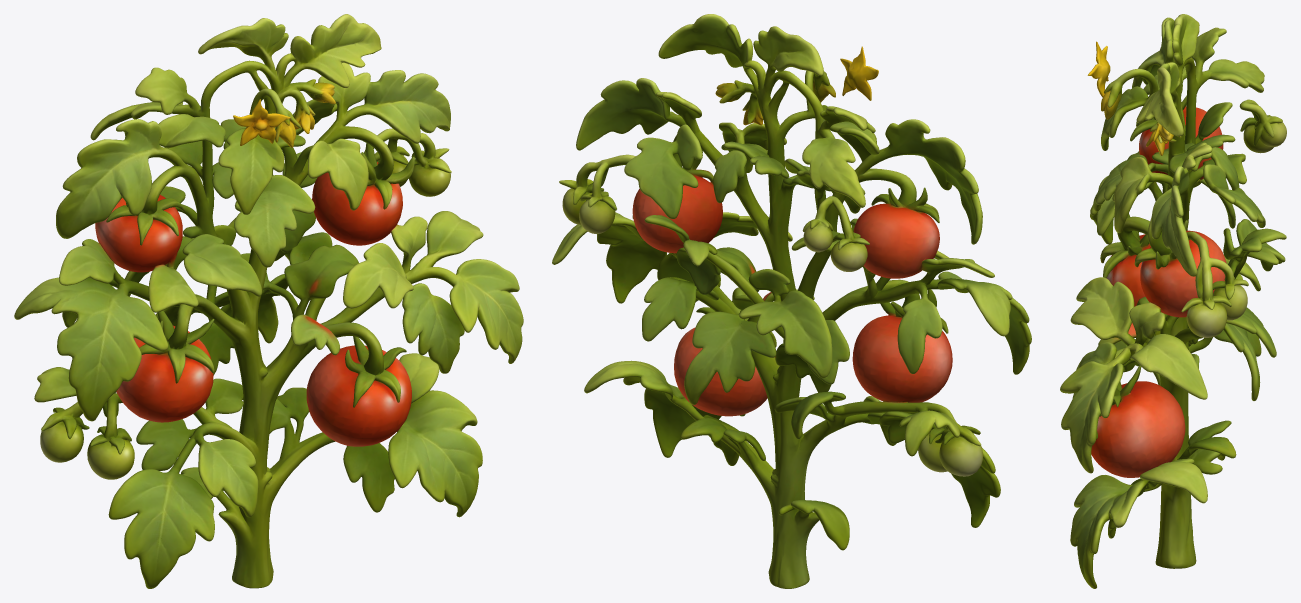
Rendered from tomato-plant.glb.
3 renders of one model, left to right at view 1: azimuth 30°, elevation 25°; view 2: azimuth 150°, elevation 25°; view 3: azimuth 270°, elevation 25°, orthographic. The views are drawn at different scales.
Parts seen in each view (by area): view 1: tripo_node_37fe6115-d600-4200-bd97-f0a721413d0f; view 2: tripo_node_37fe6115-d600-4200-bd97-f0a721413d0f; view 3: tripo_node_37fe6115-d600-4200-bd97-f0a721413d0f.
Part boxes in pixels (left/top/right/bottom): tripo_node_37fe6115-d600-4200-bd97-f0a721413d0f: left=14, top=14, right=523, bottom=588; tripo_node_37fe6115-d600-4200-bd97-f0a721413d0f: left=552, top=14, right=1031, bottom=588; tripo_node_37fe6115-d600-4200-bd97-f0a721413d0f: left=1060, top=14, right=1286, bottom=588.
Bounding box in the file's own units: 0.8604 × 1 × 0.3778.
1 material, 1 textured.
